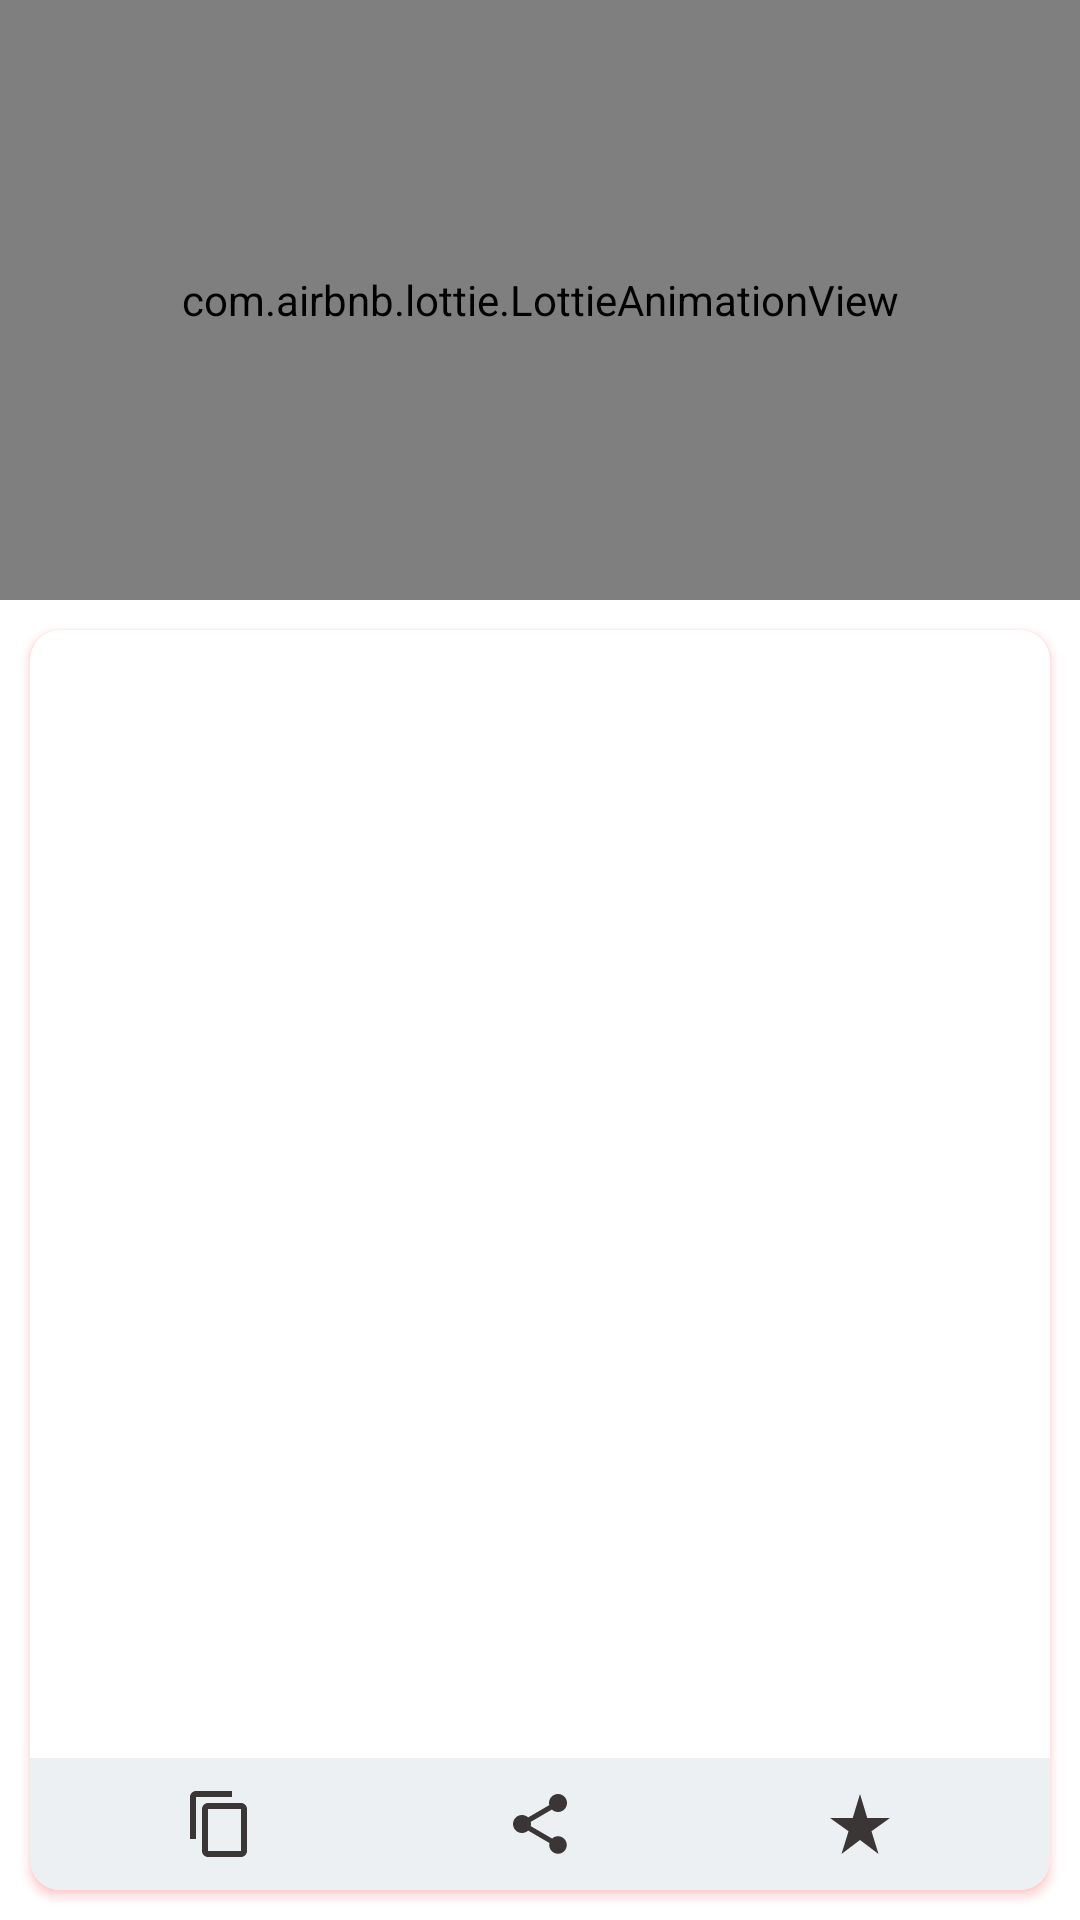

Screen size 1080px×1920px. Icon name, then its center in pixels as point (x, y):
share: point (540, 1824)
star rate: point (860, 1824)
